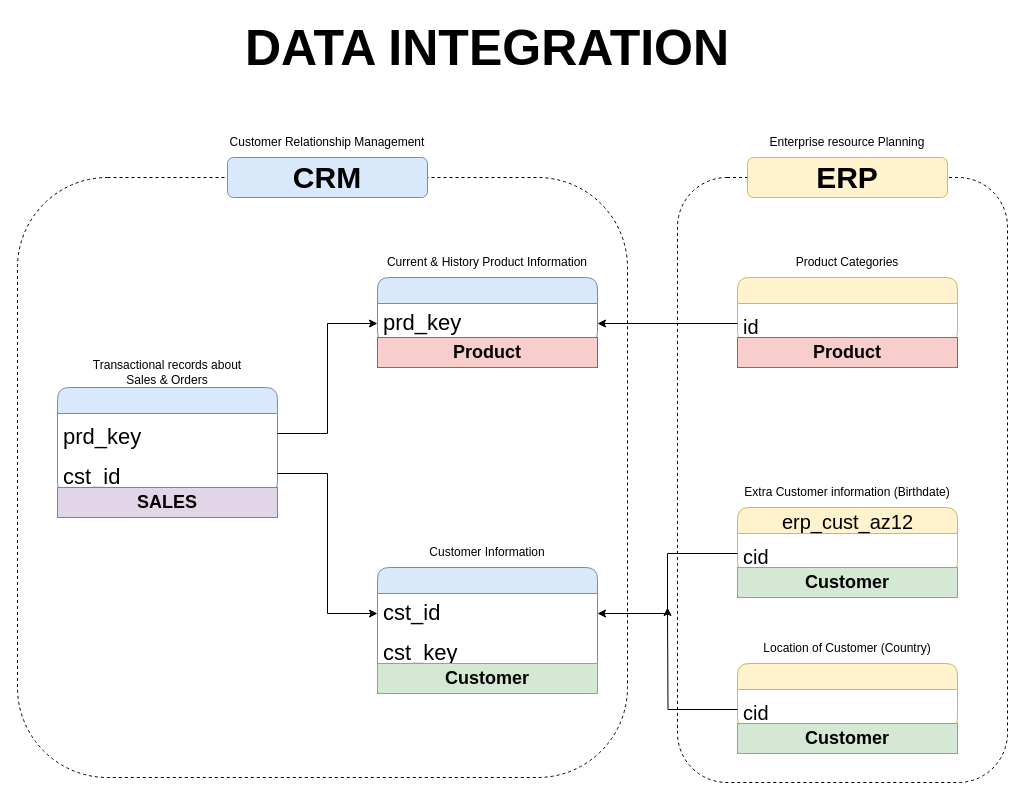
Image size: 1025x800. Some labels were removed from this diagram. The box of each missing label's shape, as (x1, y1, x2, y2) in pixels:
crm_cust_info: (376, 566, 598, 674)
crm_prd_info: (376, 276, 598, 344)
crm_sales_info: (56, 386, 278, 494)
erp_loc_a101: (736, 662, 958, 730)
erp_px_cat_g1v2: (736, 276, 958, 344)
